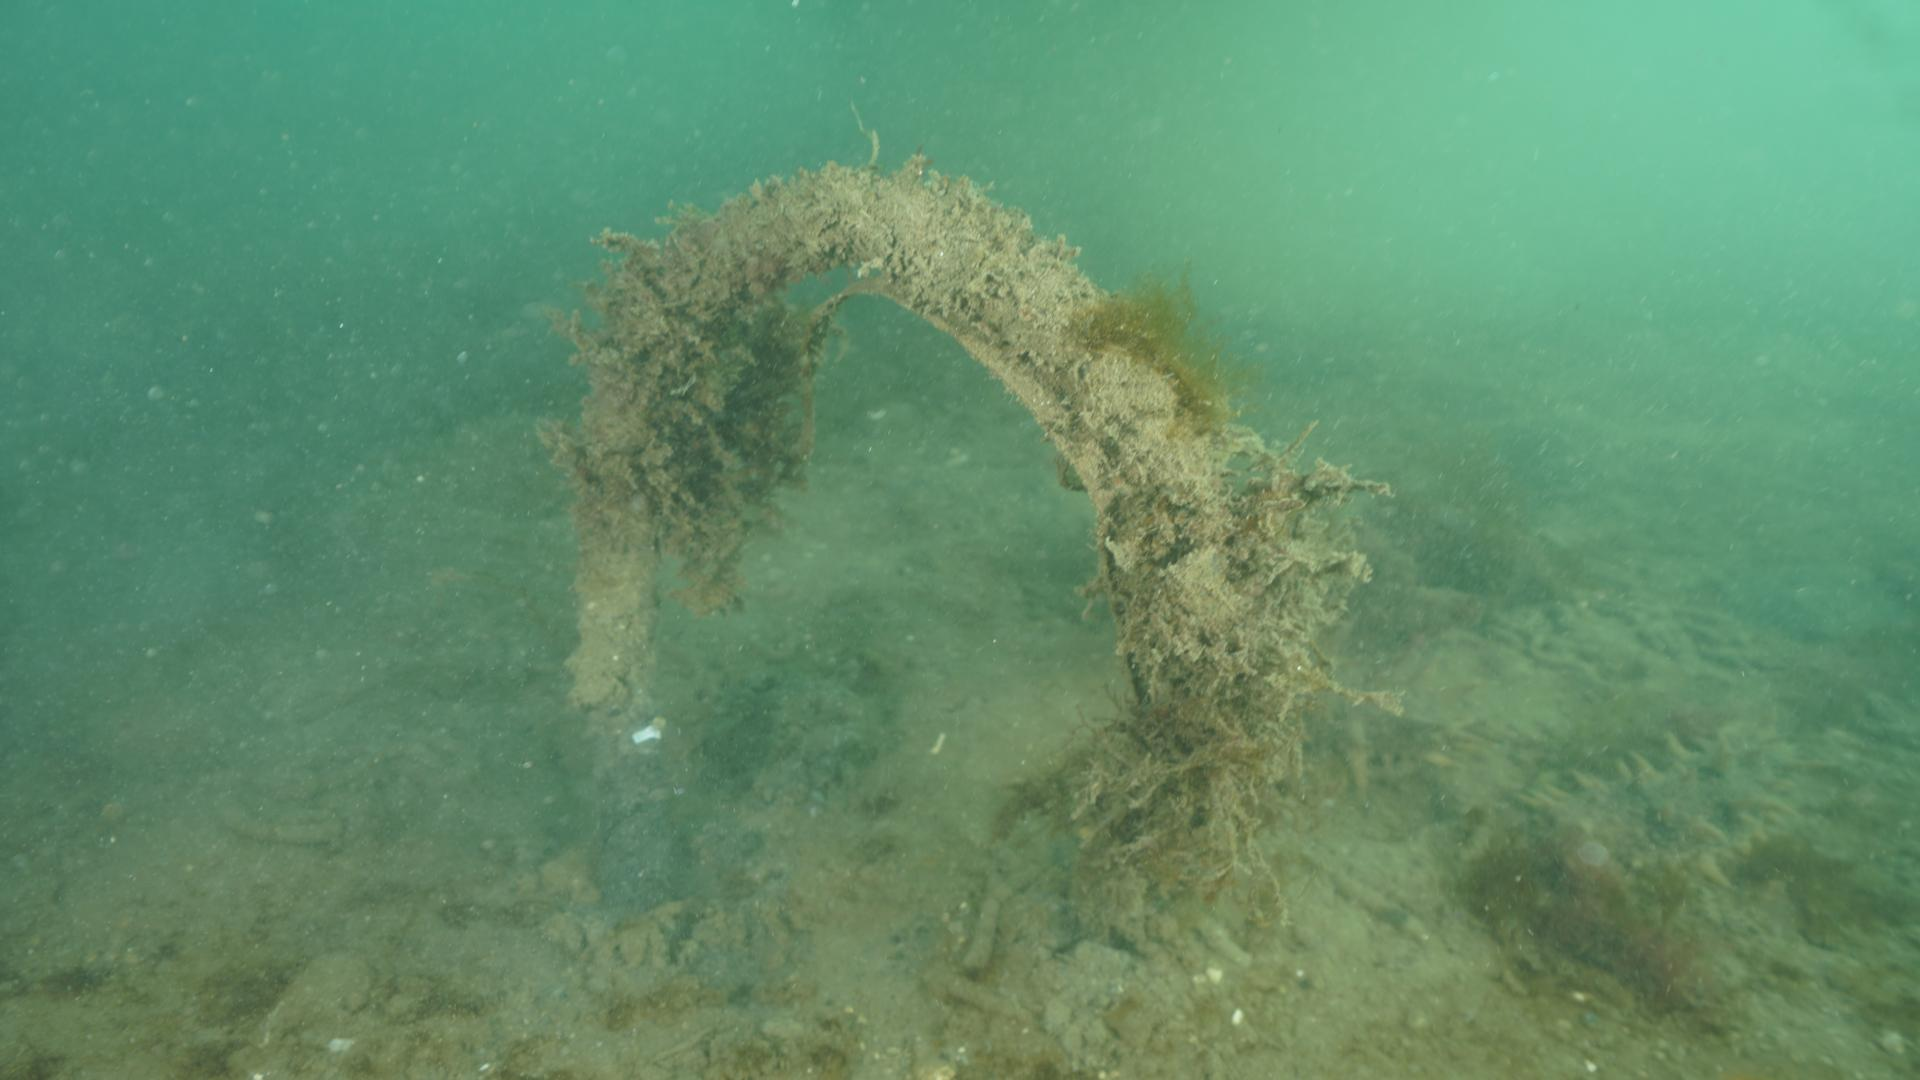wood: (576, 165, 1251, 930)
